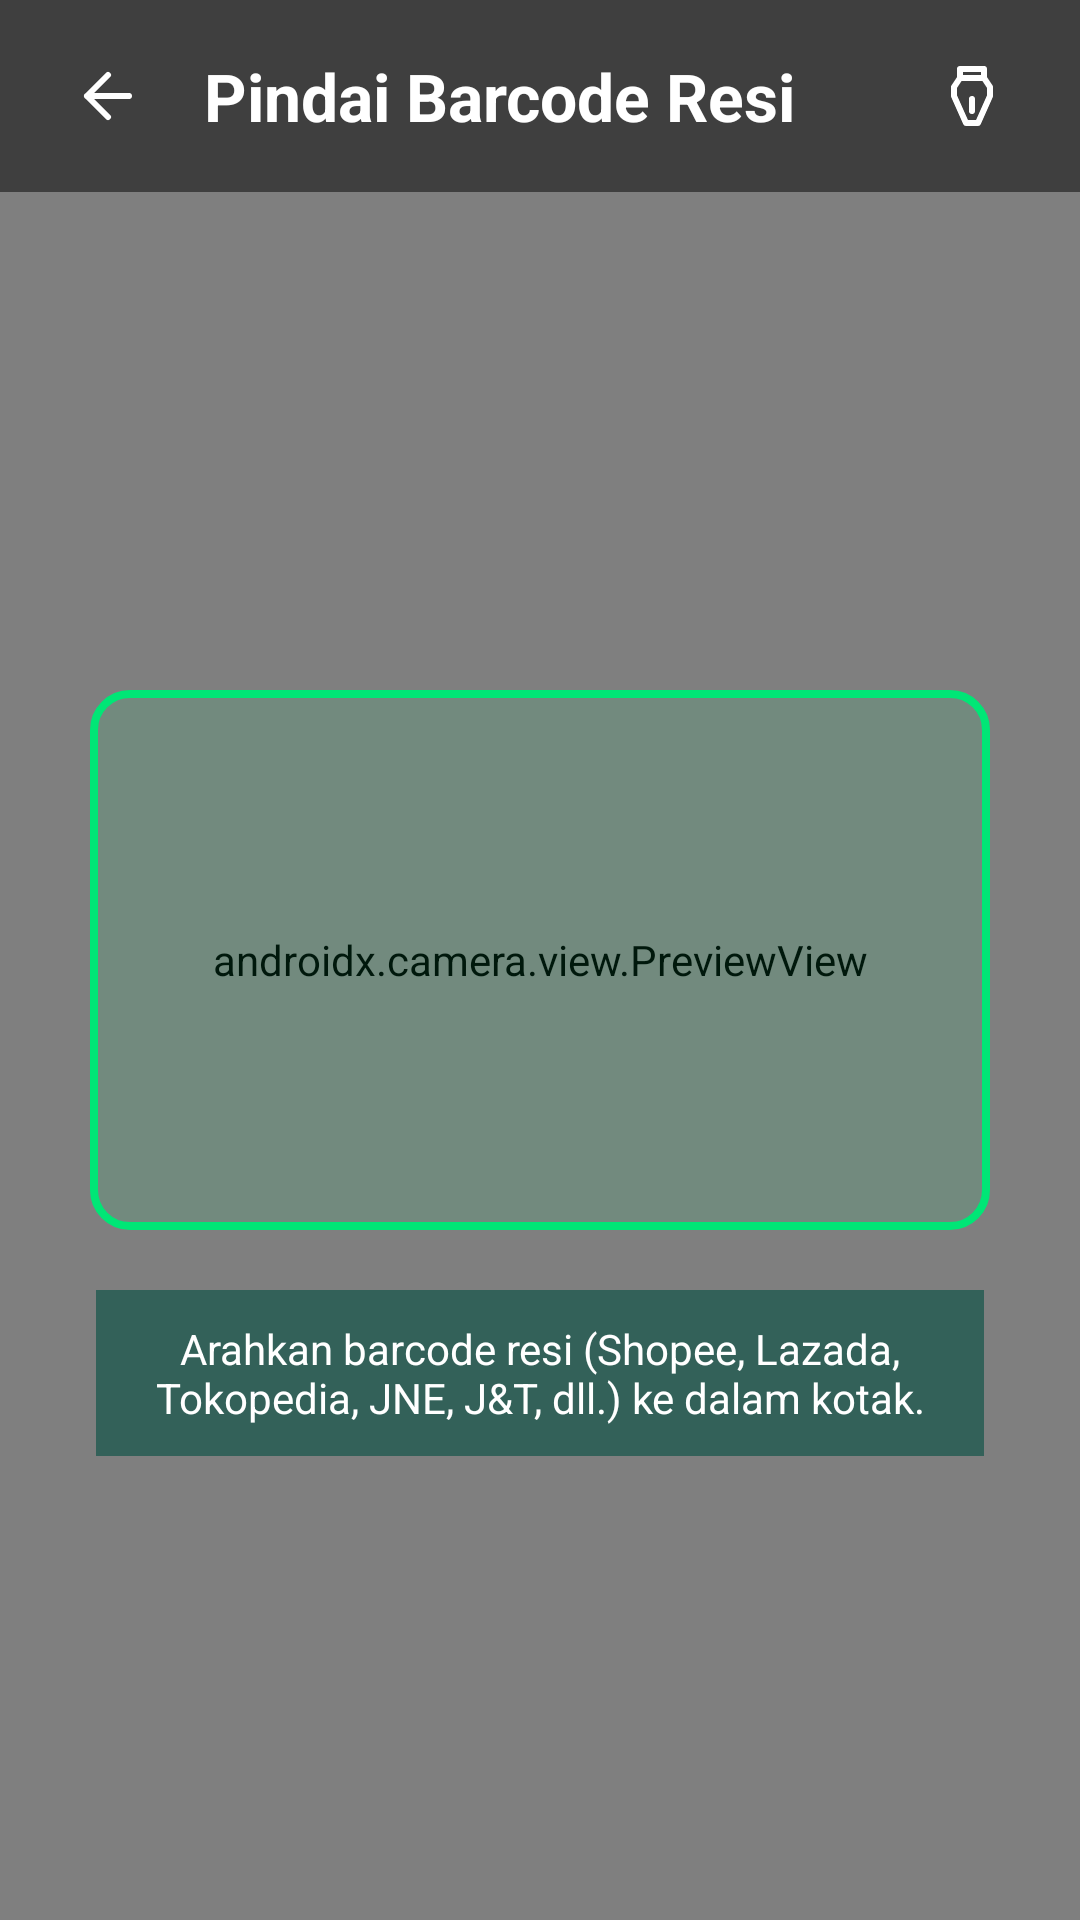

Named icons in this screenshot (1080px×1920px) and their centers, point (x, y):
Kembali: point (108, 96)
Senter: point (972, 96)
